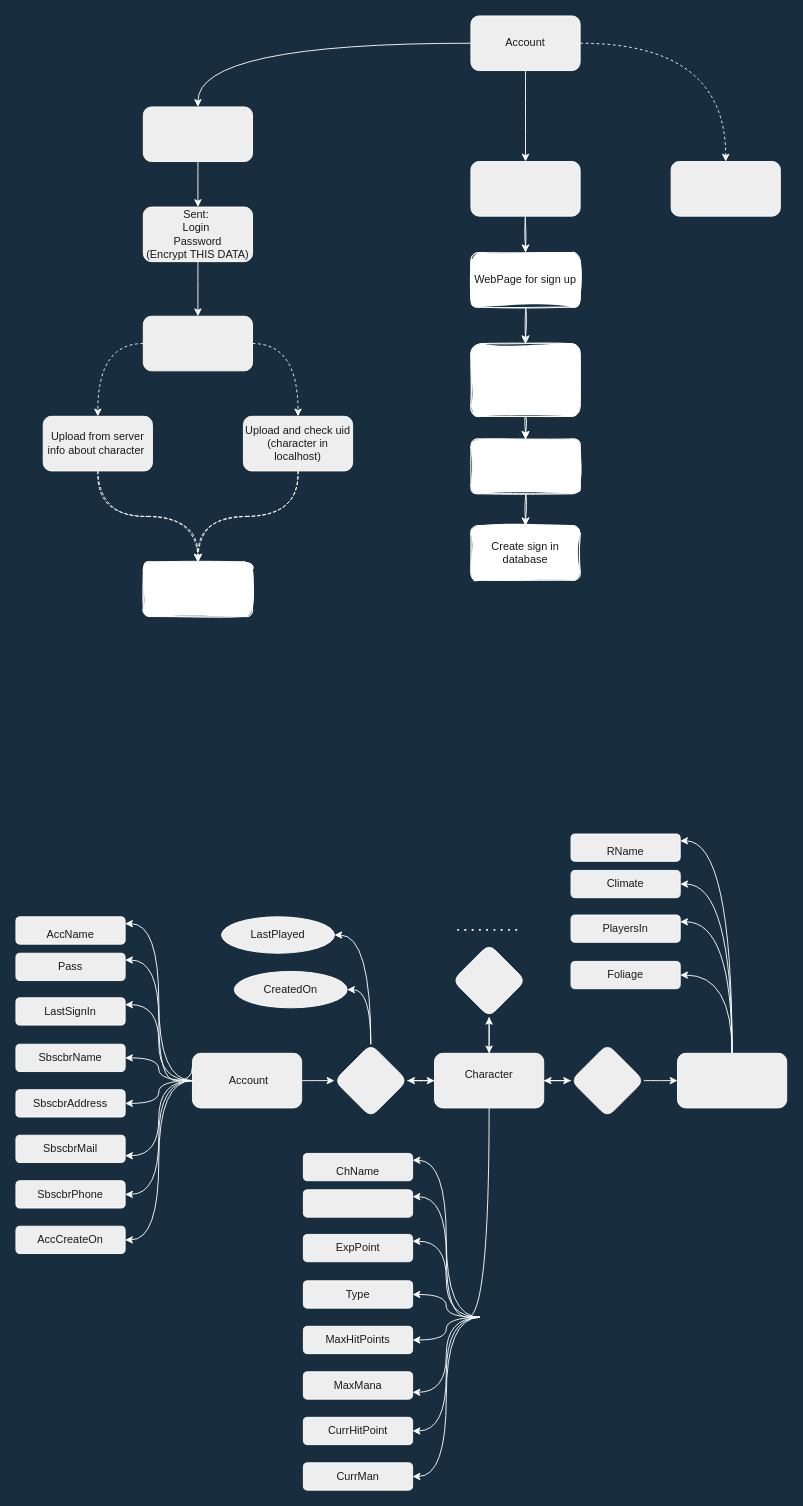
Some shapes in this 803 by 1506 pixel diagram are drawn without their labels. Each missing label, with the centre of its shape:
"Carrying" goes at pixel 489 980.
"Chack mail Send message(auth code or link)//Beter link" goes at pixel 525 466.
"Change data" goes at pixel 725 188.
"Contains" goes at pixel 607 1080.
"Get request" goes at pixel 197 343.
"Has" goes at pixel 370 1080.
"Login" goes at pixel 197 134.
"Lvl" goes at pixel 357 1203.
"Region" goes at pixel 732 1080.
"Sign up" goes at pixel 525 188.
"State: Online" goes at pixel 197 589.
"Username password mail age" goes at pixel 525 379.
